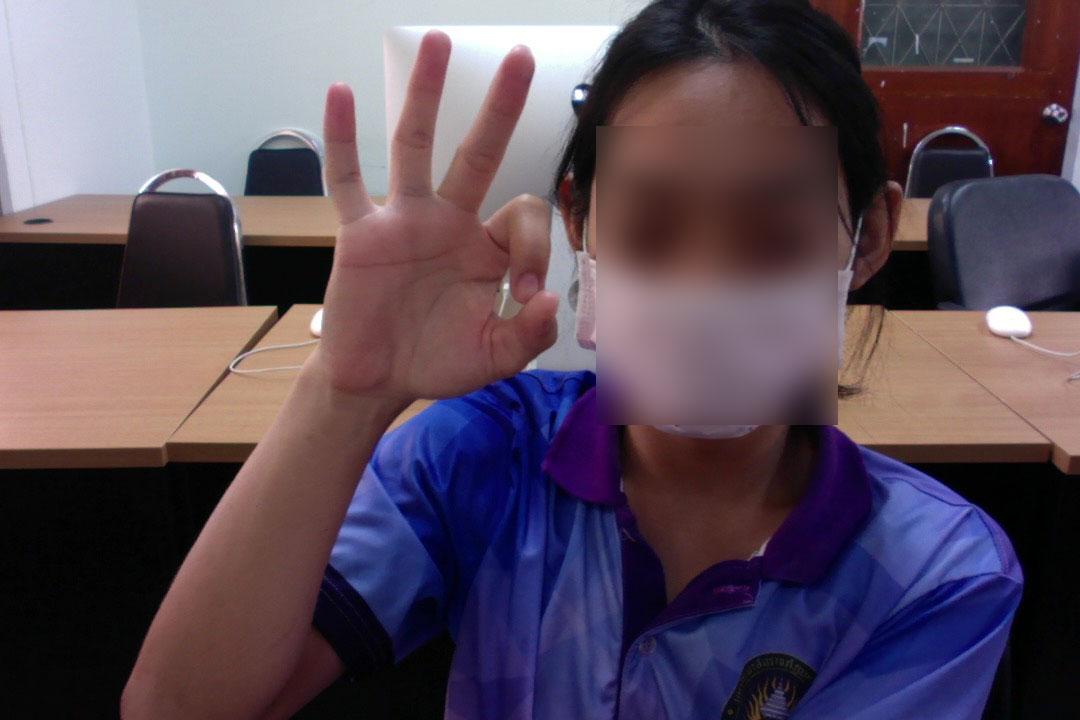for: (300, 22, 568, 422)
